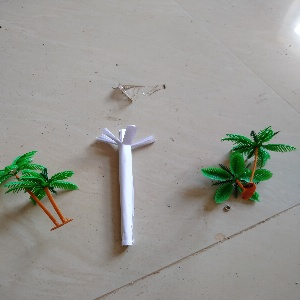plant: (6, 150, 73, 232), (211, 129, 276, 213)
weed: (96, 124, 154, 248)
